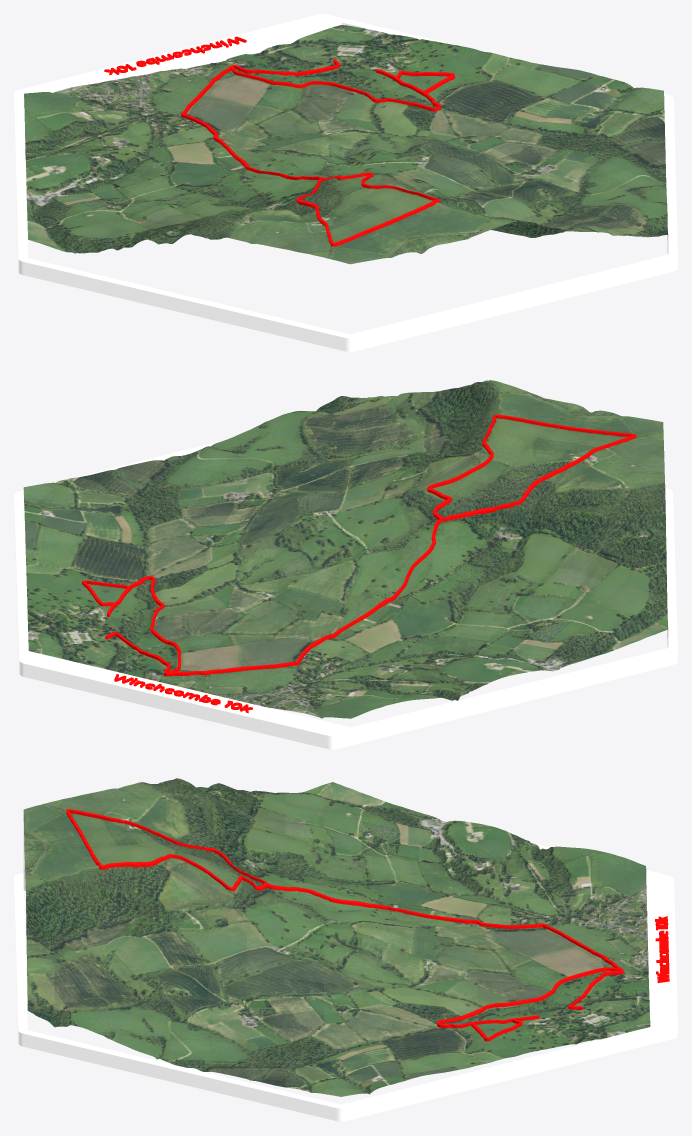
The model's file is exmue09kbb7b7k.glb.
3 renders of one model, top to bottom at view 1: azimuth 30°, elevation 25°; view 2: azimuth 150°, elevation 25°; view 3: azimuth 270°, elevation 25°, orthographic. The views are drawn at different scales.
Visible parts, largest first — view 1: tinMesh, frame_wall, track_KRbi8Qnvjo53VhZZASE90_0, frame_label_top_title; view 2: tinMesh, frame_wall, track_KRbi8Qnvjo53VhZZASE90_0, frame_label_top_title; view 3: tinMesh, frame_wall, track_KRbi8Qnvjo53VhZZASE90_0, frame_label_top_title.
Boxes of the visible parts, x1=… form: tinMesh: x1=24, y1=25, x2=668, y2=264; frame_wall: x1=14, y1=14, x2=677, y2=351; track_KRbi8Qnvjo53VhZZASE90_0: x1=181, y1=58, x2=454, y2=246; frame_label_top_title: x1=104, y1=36, x2=246, y2=75; tinMesh: x1=23, y1=380, x2=668, y2=718; frame_wall: x1=14, y1=440, x2=677, y2=749; track_KRbi8Qnvjo53VhZZASE90_0: x1=82, y1=414, x2=636, y2=676; frame_label_top_title: x1=114, y1=674, x2=252, y2=713; tinMesh: x1=23, y1=778, x2=650, y2=1096; frame_wall: x1=14, y1=842, x2=677, y2=1121; track_KRbi8Qnvjo53VhZZASE90_0: x1=66, y1=809, x2=623, y2=1041; frame_label_top_title: x1=655, y1=916, x2=669, y2=982.
Bounding box in the file's own units: 3625 × 469 × 3254.
Materials: 5 (2 with a texture image).
